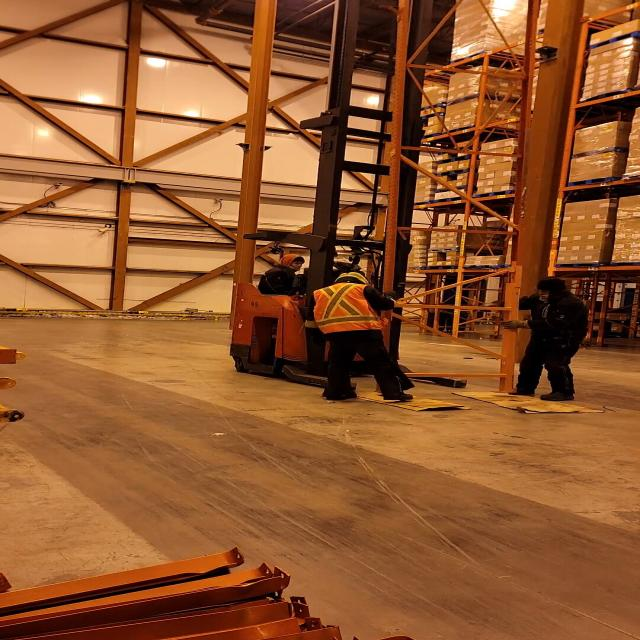forklift: (223, 111, 475, 400)
human: (307, 271, 418, 403), (498, 275, 591, 404), (252, 252, 325, 295)
objectofinterest: (374, 6, 524, 395), (444, 386, 617, 416), (333, 384, 469, 414)
